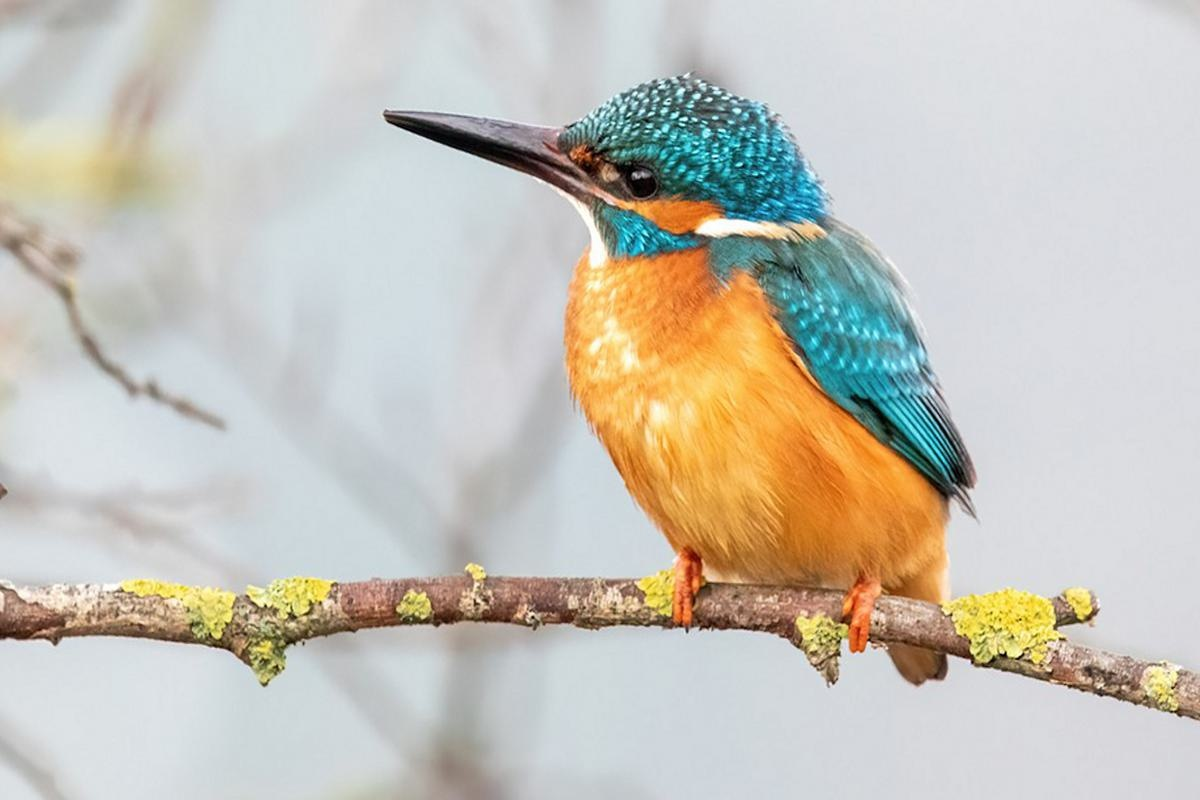kingfisher: (399, 65, 988, 711)
